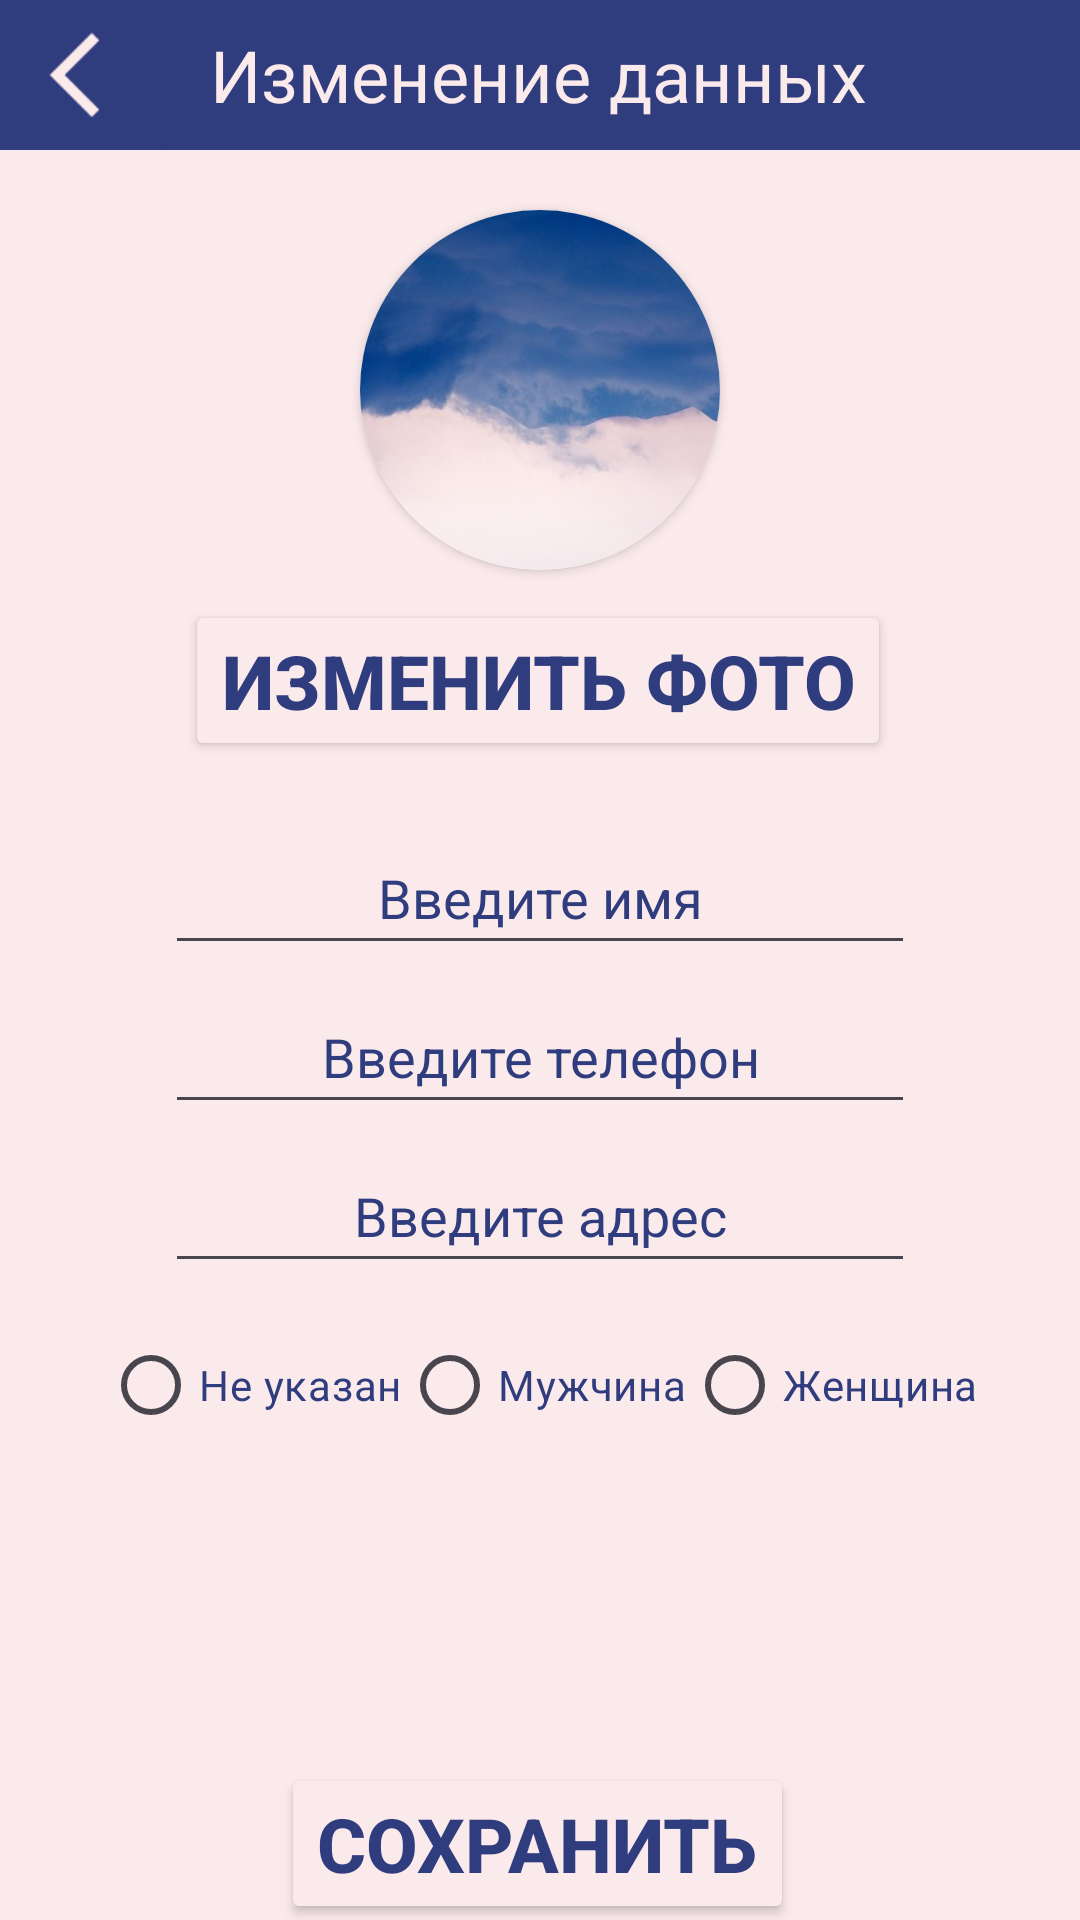

Where to tap for icons on this 1080 x 1920 app screen, as (x,y):
cloud: (540,390)
